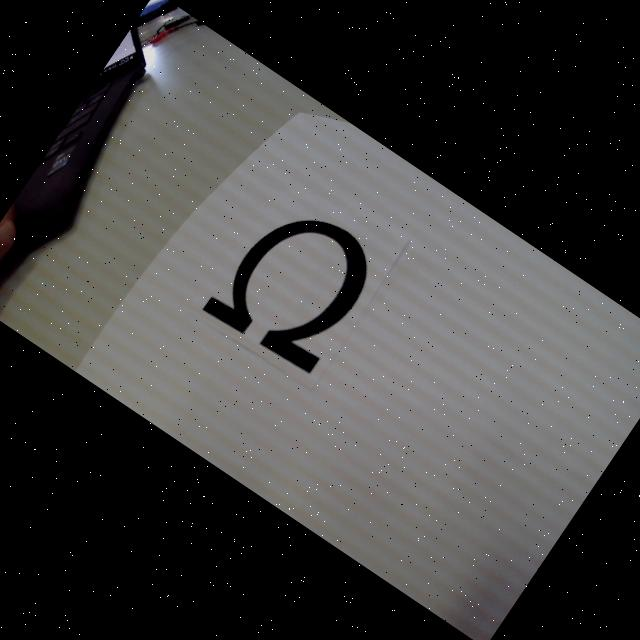OMEGA: (202, 188, 388, 380)
